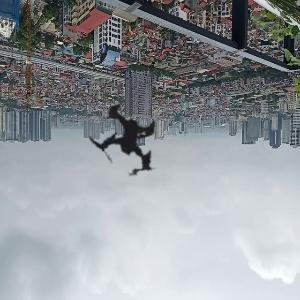drone: (22, 39, 230, 247)
